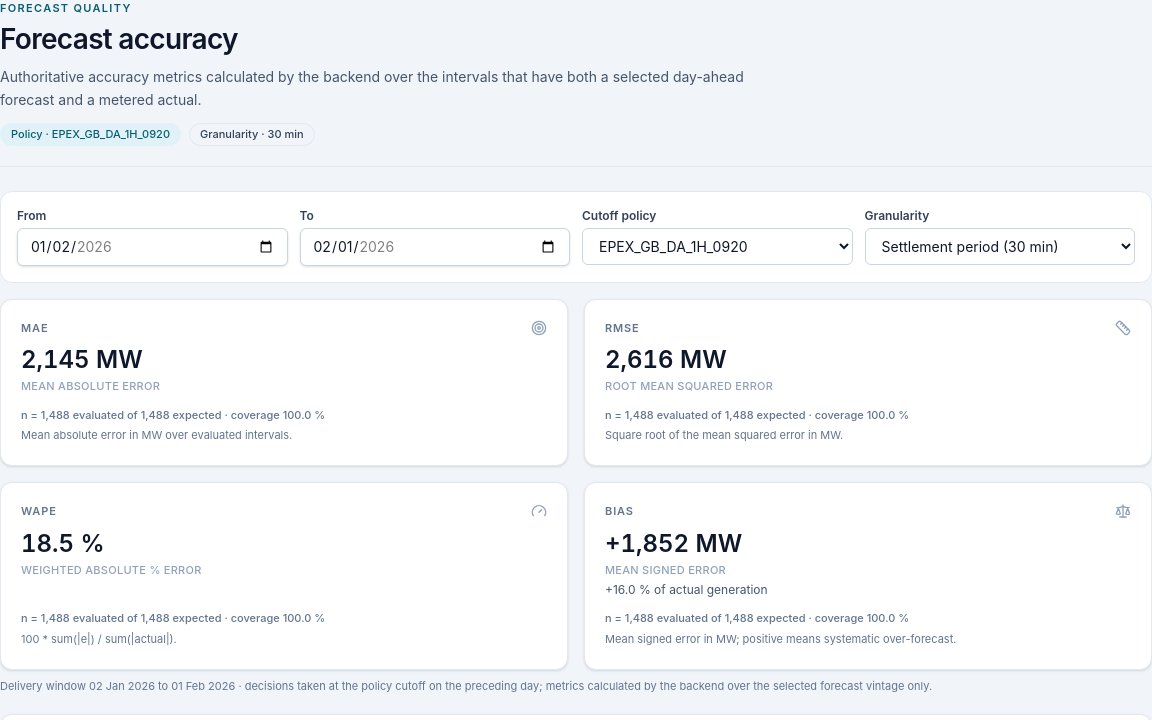
ForecastAccuracy › validates a range outside the loaded window
Expected: the text "2,145 MW" is shown, [21,345,143,374]
Type "2026-06-01" into the date field labelled "To" at point(435, 247), box [300,228,570,266]
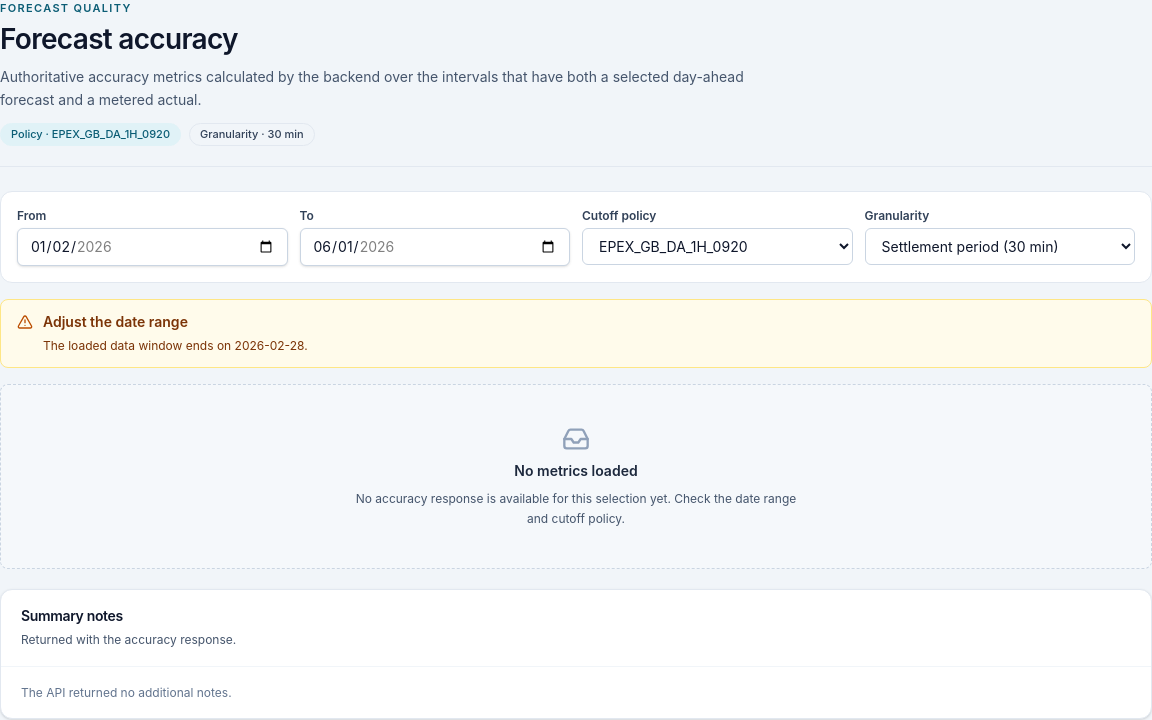
Expected: the text "Adjust the date range" is shown, [43,313,188,330]
Expected: the text "The loaded data window ends on 2026-02-28." is shown, [43,336,308,355]
